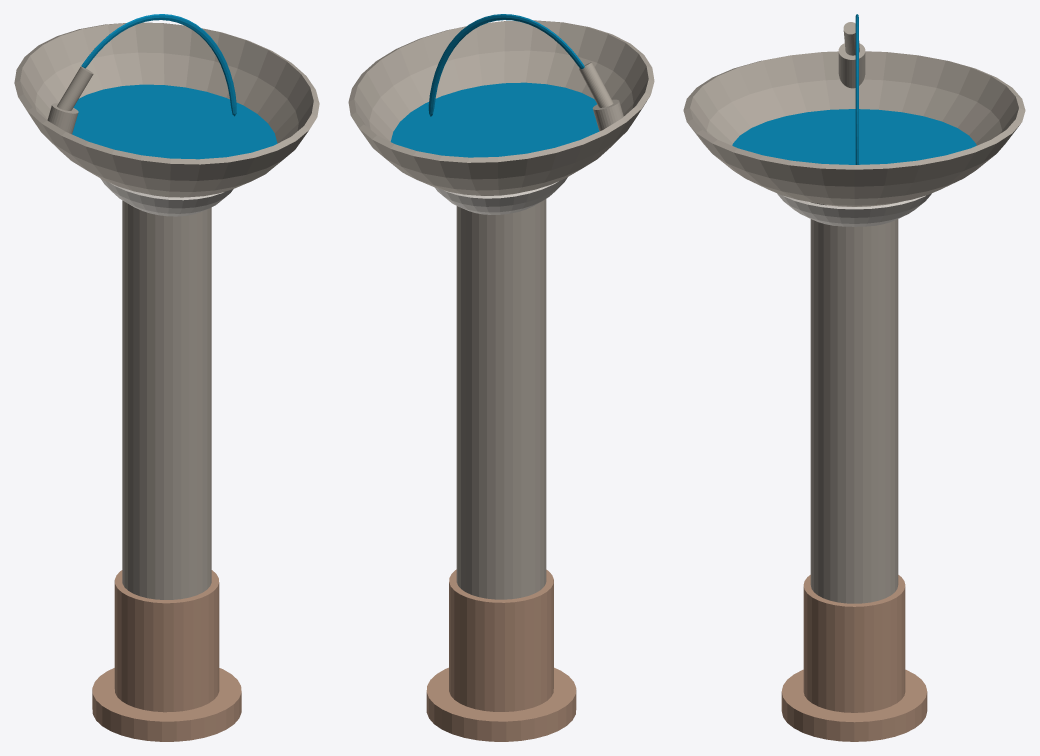
Rendered from WaterFountain.fbx.
The picture shows the model from 3 angles, left to right: view 1: azimuth 30°, elevation 25°; view 2: azimuth 150°, elevation 25°; view 3: azimuth 270°, elevation 25°; orthographic projection. The views are drawn at different scales.
Parts seen in each view (by area): view 1: WaterFountain; view 2: WaterFountain; view 3: WaterFountain.
Boxes of the visible parts, x1,y1,x2,y2 form: WaterFountain: (14,14,319,741); WaterFountain: (348,14,654,741); WaterFountain: (683,14,1025,741).
Size of the model in its own units: 38.57 by 104 by 47.
